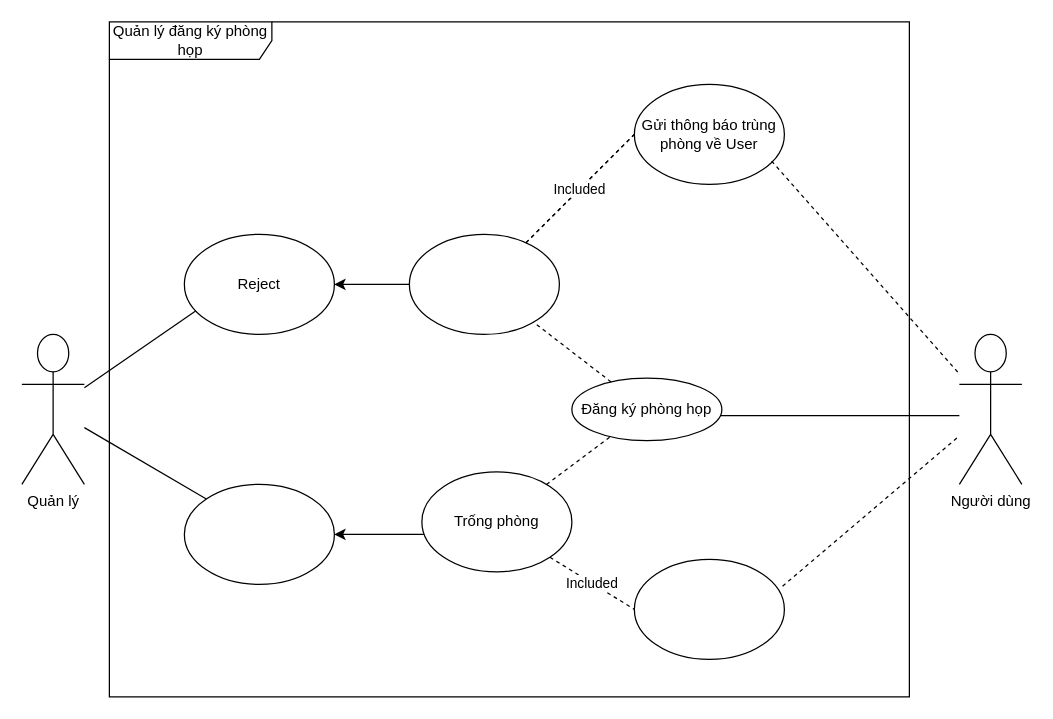
This 1053x719 diagram has some shape labels left out. The shapes that lost their labels are listed below. From the top down, each one's centre as x and y in pixels, then its label:
At [483,283]: "Trùng phòng".
At [258,533]: "Approve".
At [708,608]: "Gửi thông báo sẽ được dùng phòng về User".
